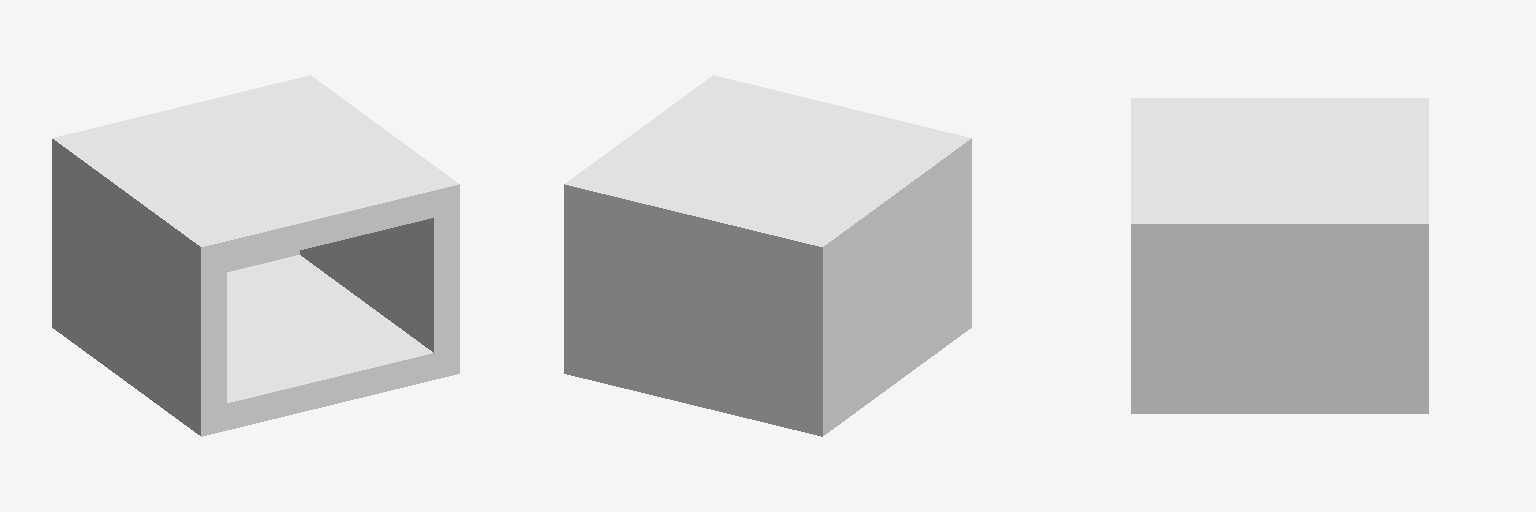
File: Decor-55.obj
3 renders of one model, left to right at view 1: azimuth 30°, elevation 25°; view 2: azimuth 150°, elevation 25°; view 3: azimuth 270°, elevation 25°, orthographic.
Parts seen in each view (by area): view 1: object 1; view 2: object 1; view 3: object 1.
Part boxes in pixels (left/top/right/bottom): object 1: left=52, top=75, right=459, bottom=436; object 1: left=564, top=75, right=971, bottom=436; object 1: left=1131, top=98, right=1428, bottom=413.
Bounding box in the file's own units: 1 × 0.7 × 1.